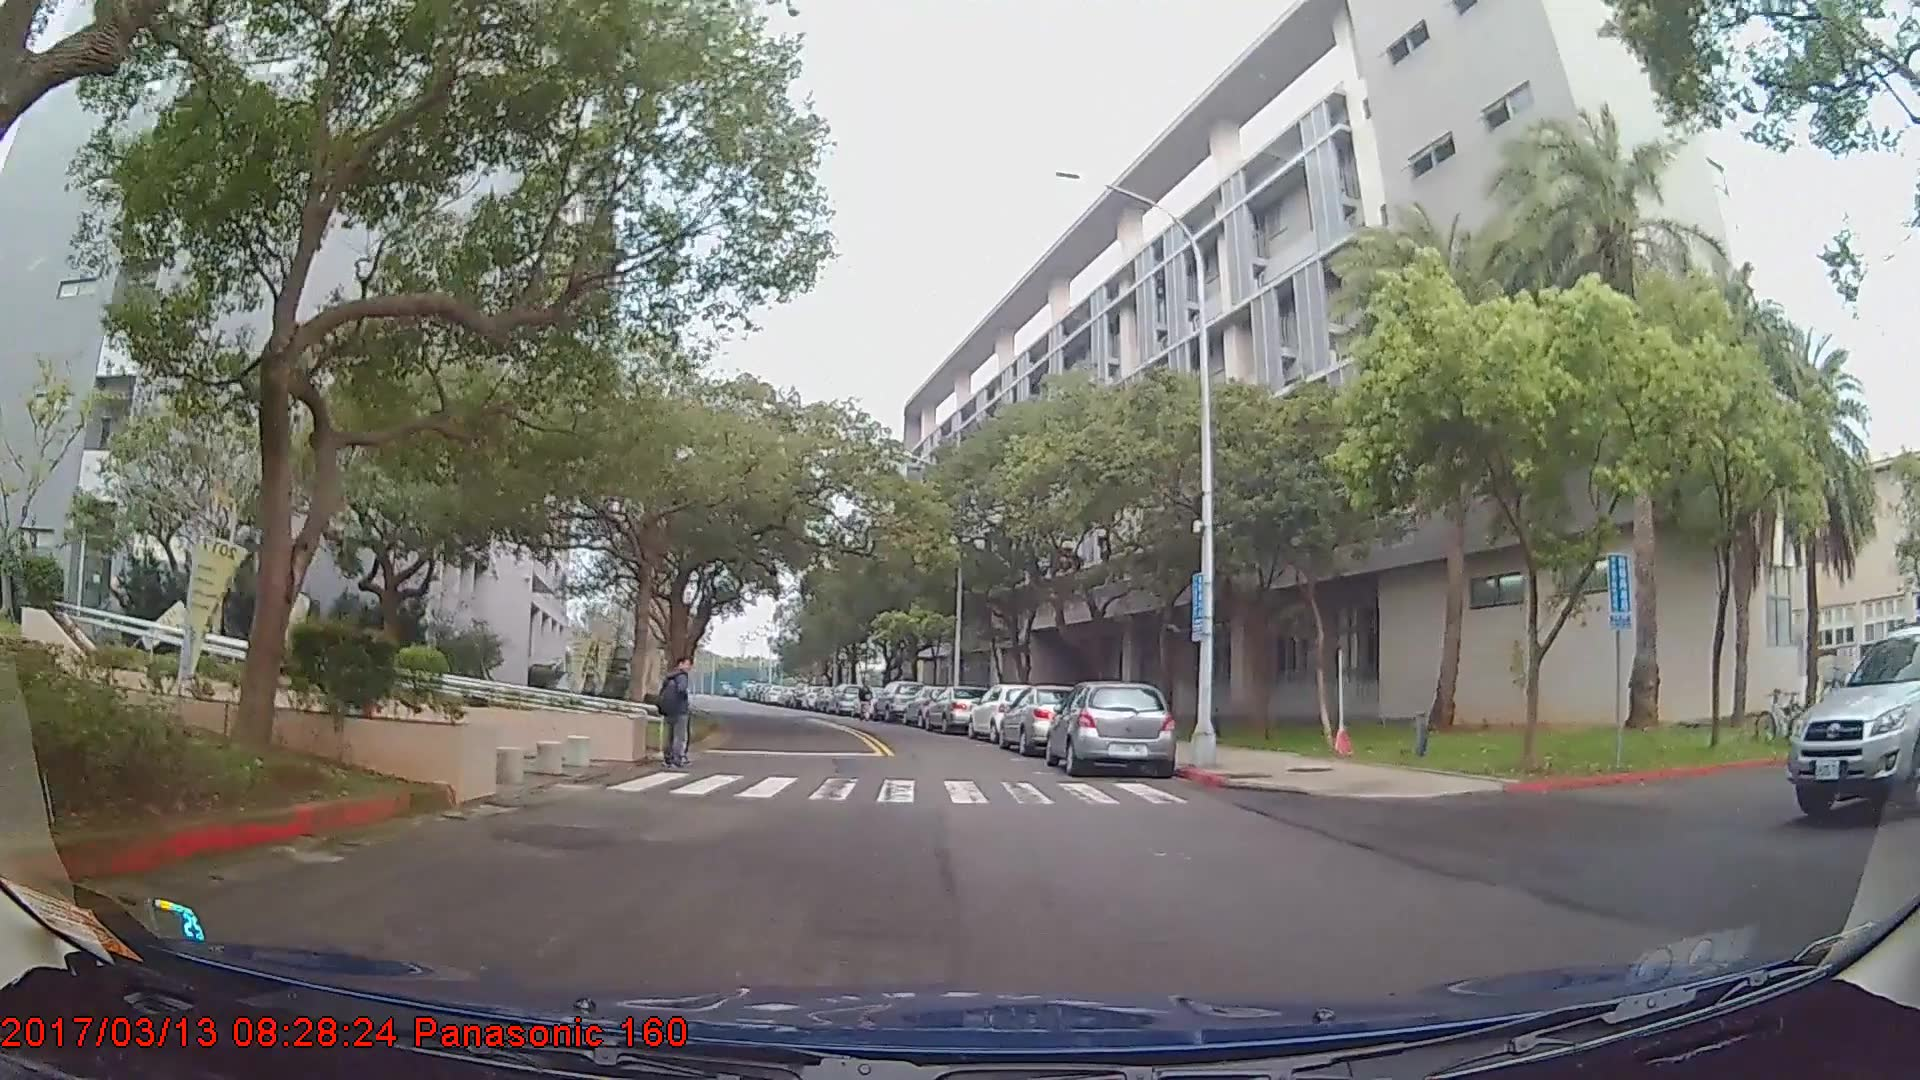pedestrian: (661, 657, 704, 778), (857, 679, 877, 723)
vehicle: (1786, 625, 1920, 821), (1045, 677, 1175, 775), (996, 684, 1091, 754), (968, 681, 1052, 742), (923, 683, 990, 734), (871, 677, 923, 721)
